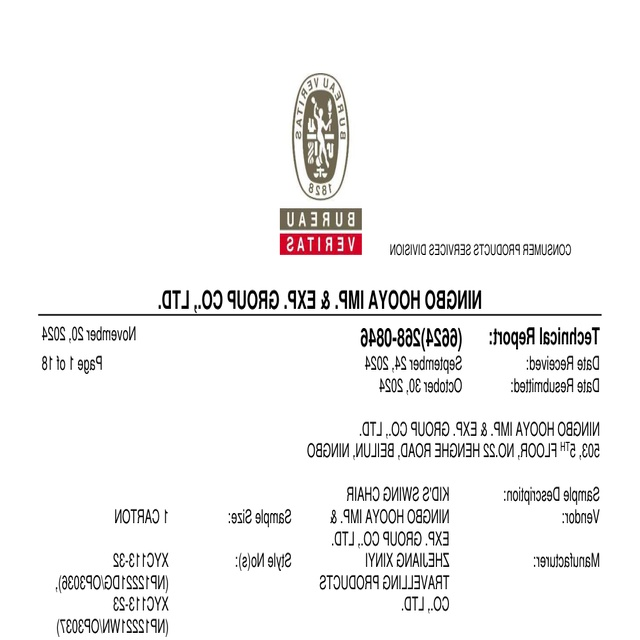bureau_veritas: (282, 74, 363, 257)
